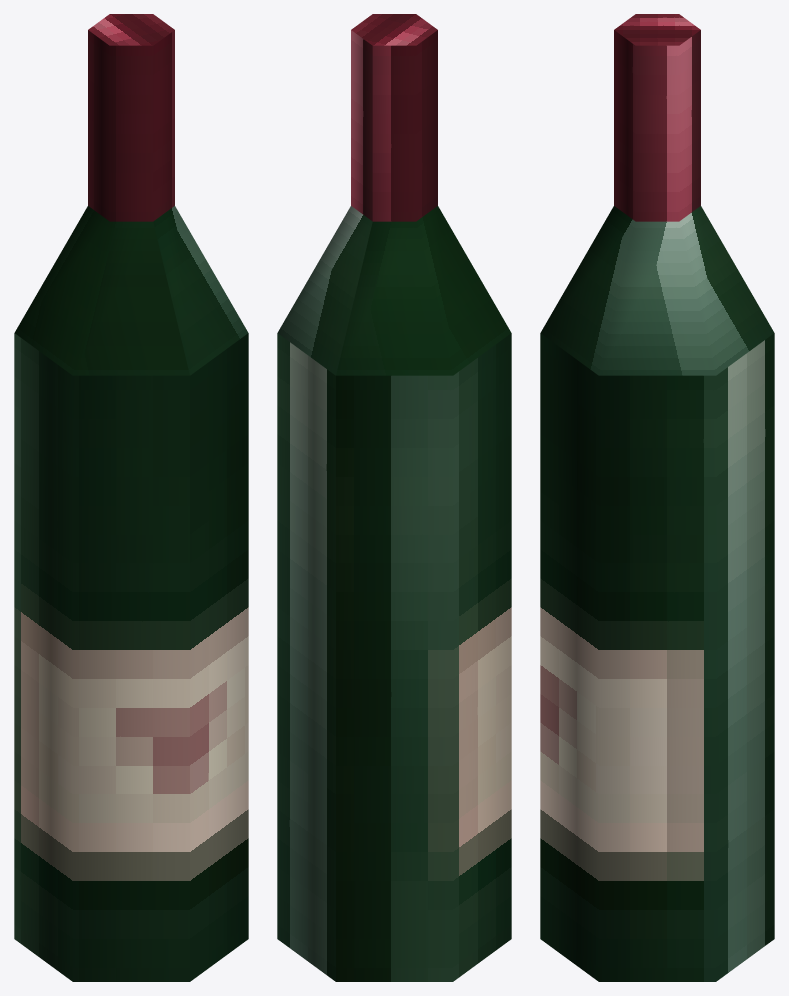
File: wine-bottle.glb
3 views of the same model, side by side, from view 1: azimuth 30°, elevation 25°; view 2: azimuth 150°, elevation 25°; view 3: azimuth 270°, elevation 25° (orthographic).
Visible parts, largest first — view 1: wine-bottle; view 2: wine-bottle; view 3: wine-bottle.
Boxes of the visible parts, x1=… form: wine-bottle: x1=14, y1=14, x2=248, y2=981; wine-bottle: x1=277, y1=14, x2=511, y2=981; wine-bottle: x1=540, y1=14, x2=774, y2=981.
Size of the model in its own units: 0.0606 by 0.3 by 0.07.
1 material, 1 textured.
